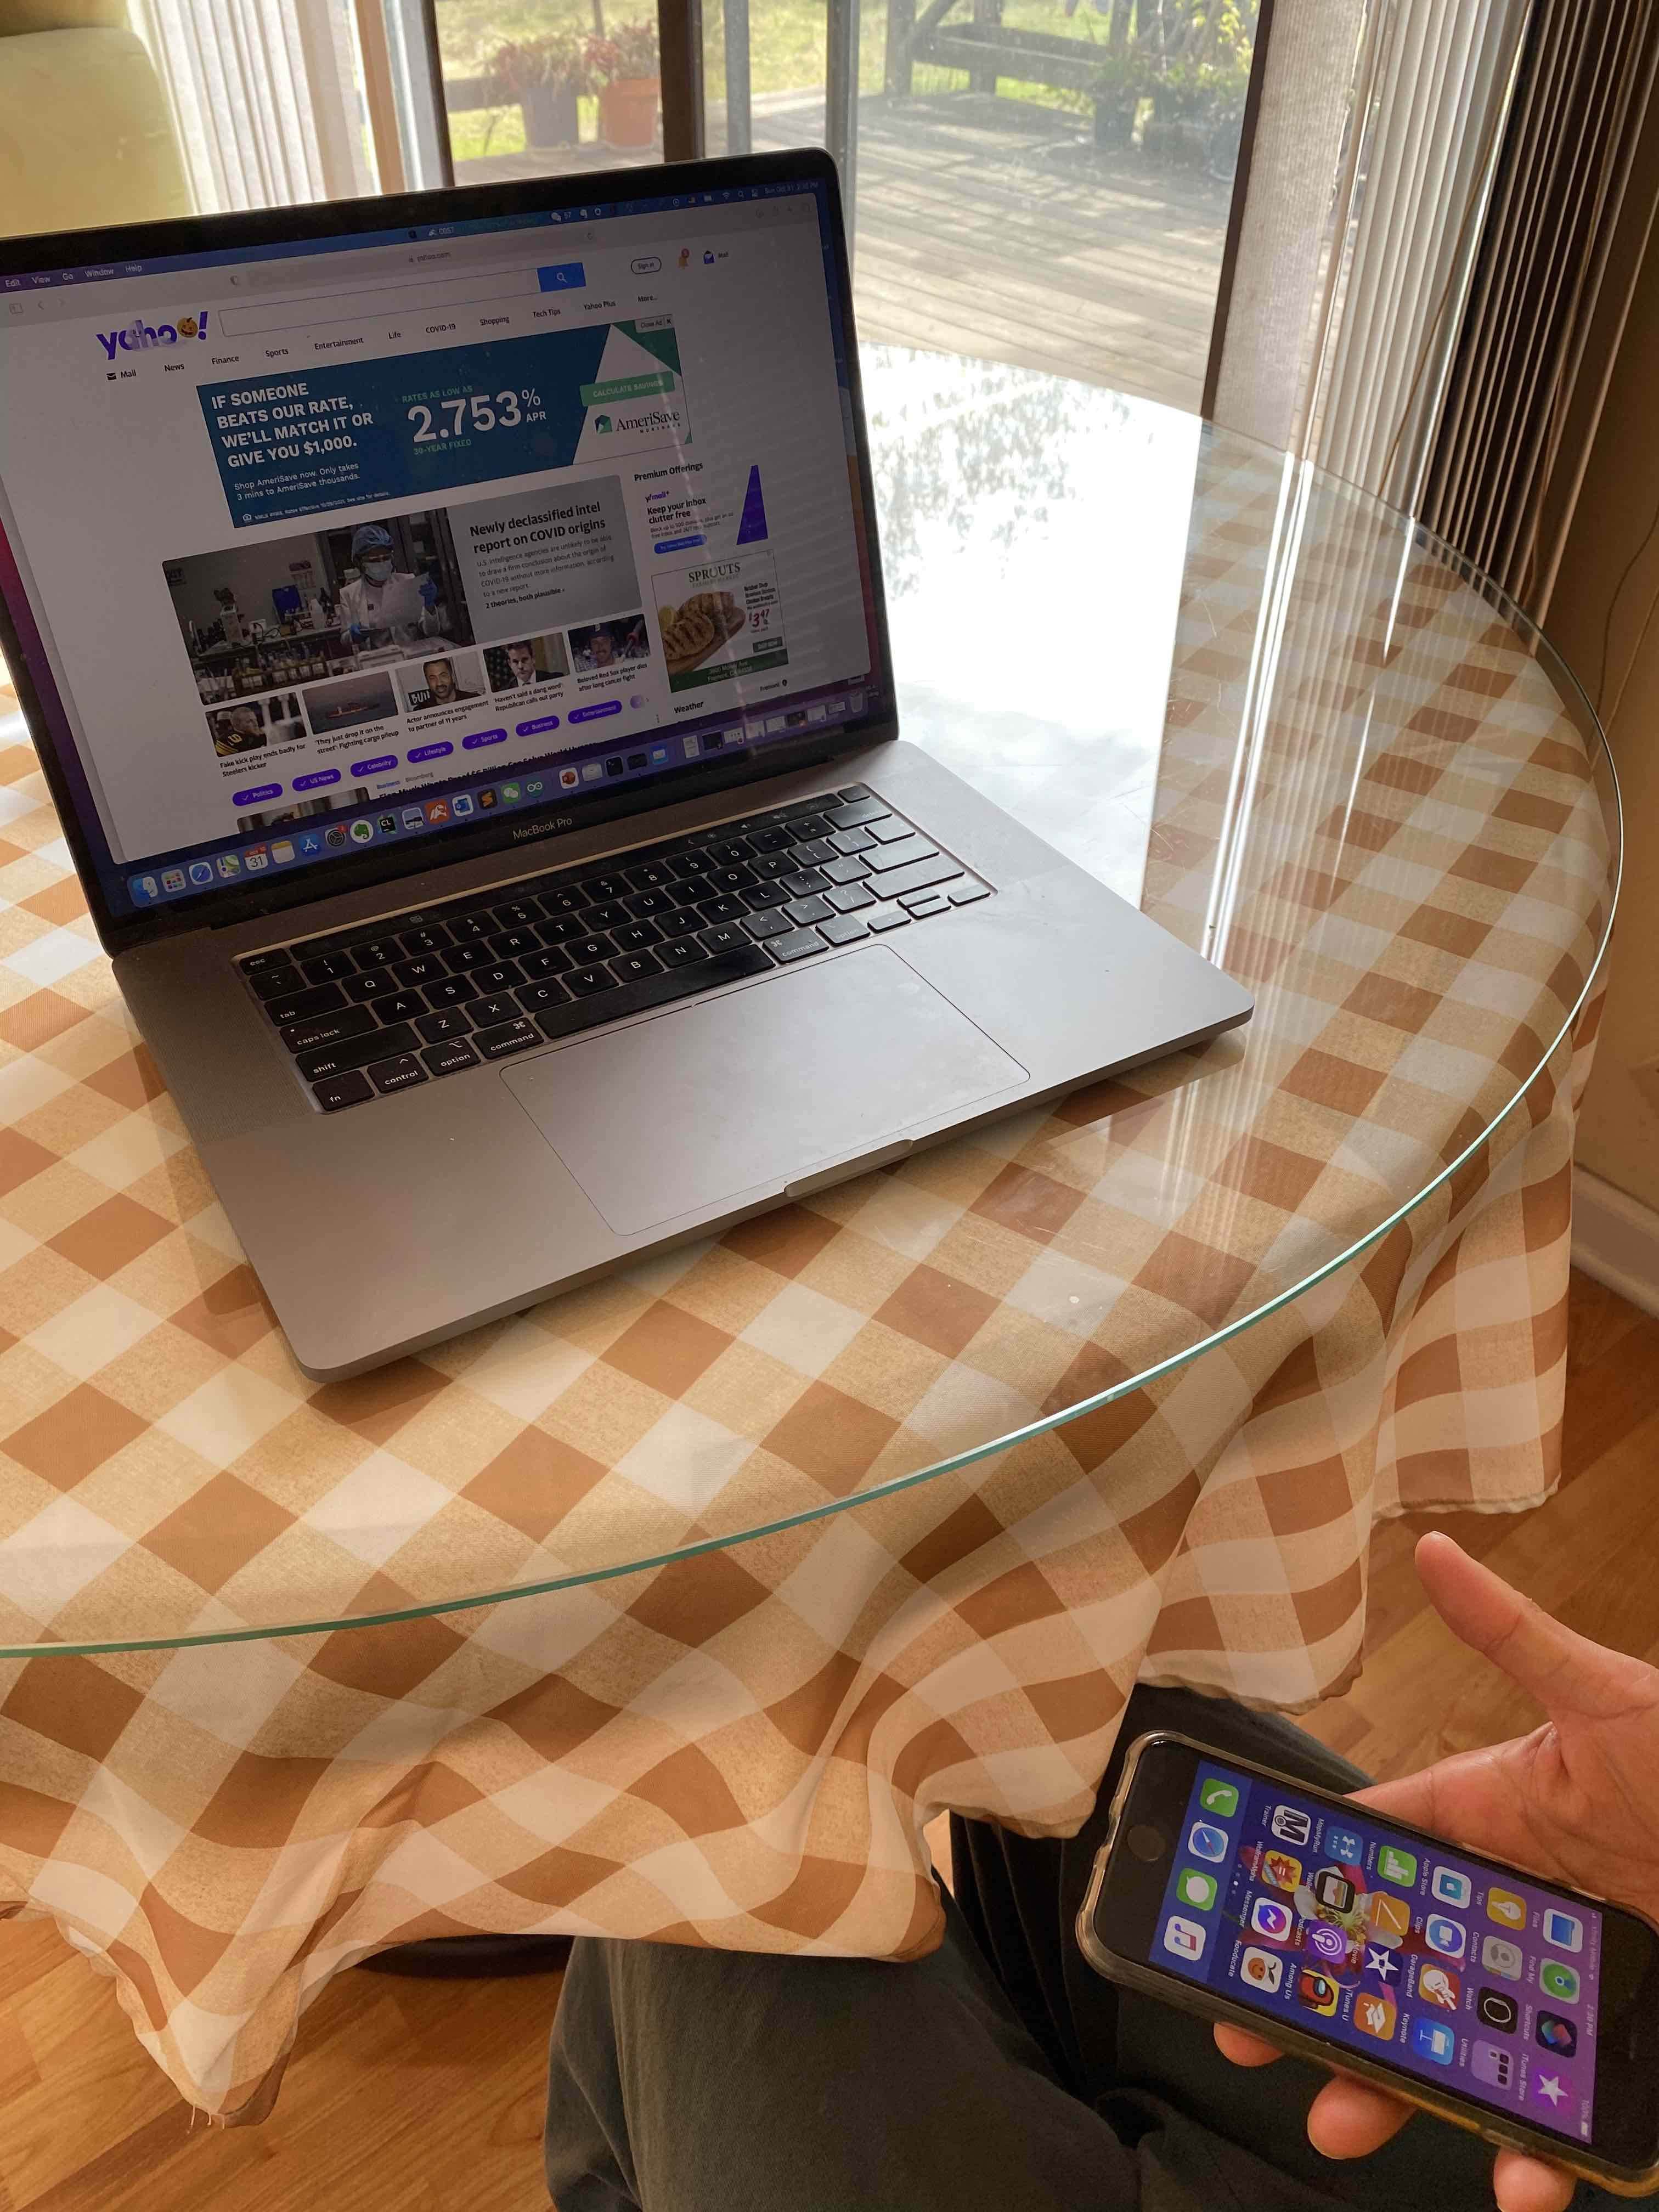Cell Phone: (1066, 1730, 1659, 2209)
